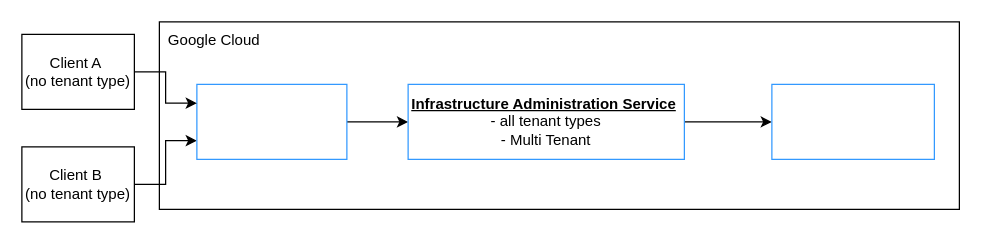
Some shapes in this 981 by 244 pixel diagram are drawn without their labels. Here are the shapes that lost their labels. From the top down, the centre of each, then its label:
At point (271, 121): "Sign Up Frontend - no tenant type - Single Tenant".
At point (852, 121): "Database - all tenant types - Multi Tenant".
